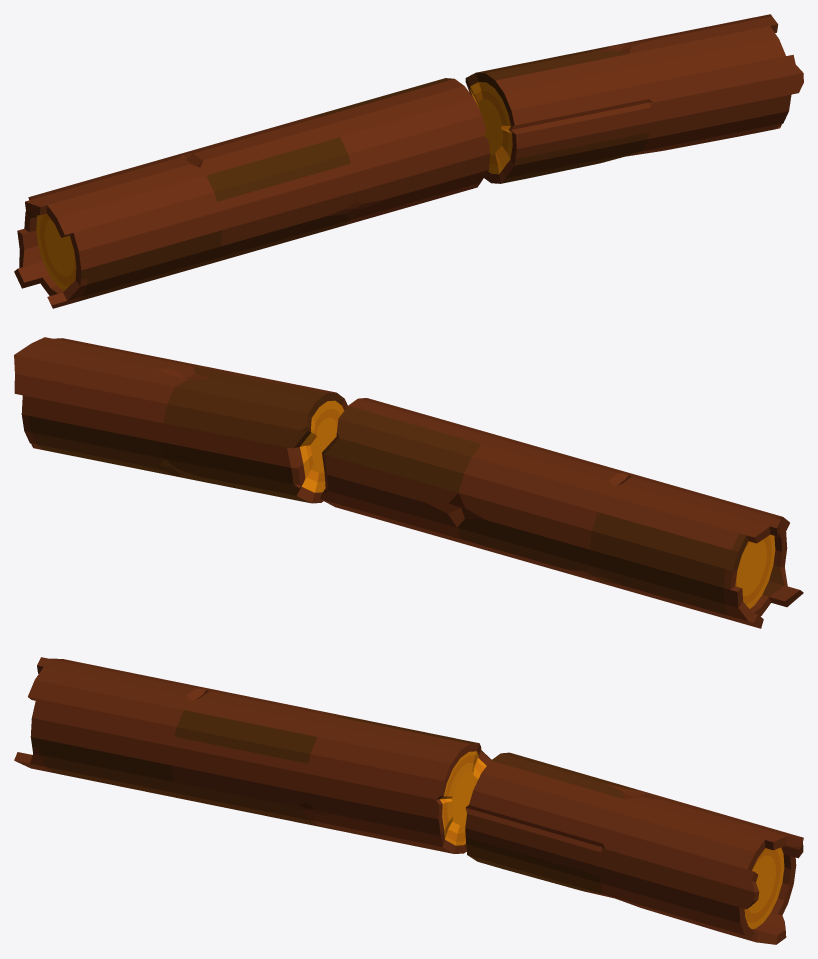
File: Broken log_31.fbx
The picture shows the model from 3 angles, top to bottom: view 1: azimuth 30°, elevation 25°; view 2: azimuth 150°, elevation 25°; view 3: azimuth 330°, elevation 25°; orthographic projection.
Visible parts, largest first — view 1: Circle.400, Circle.403; view 2: Circle.400, Circle.403; view 3: Circle.400, Circle.403.
Part boxes in pixels (left/top/right/bottom): Circle.400: left=14, top=78, right=489, bottom=308; Circle.403: left=465, top=14, right=803, bottom=183; Circle.400: left=320, top=398, right=803, bottom=628; Circle.403: left=14, top=337, right=347, bottom=503; Circle.400: left=14, top=657, right=491, bottom=853; Circle.403: left=465, top=752, right=803, bottom=944.
Size of the model in its own units: 180 by 27.07 by 23.56.
